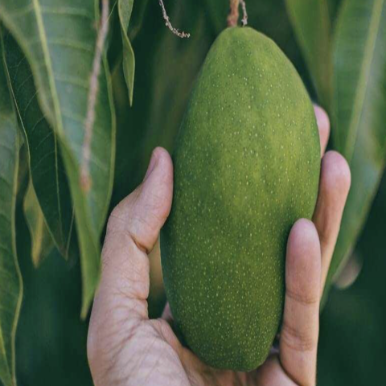mango: (130, 10, 373, 384)
